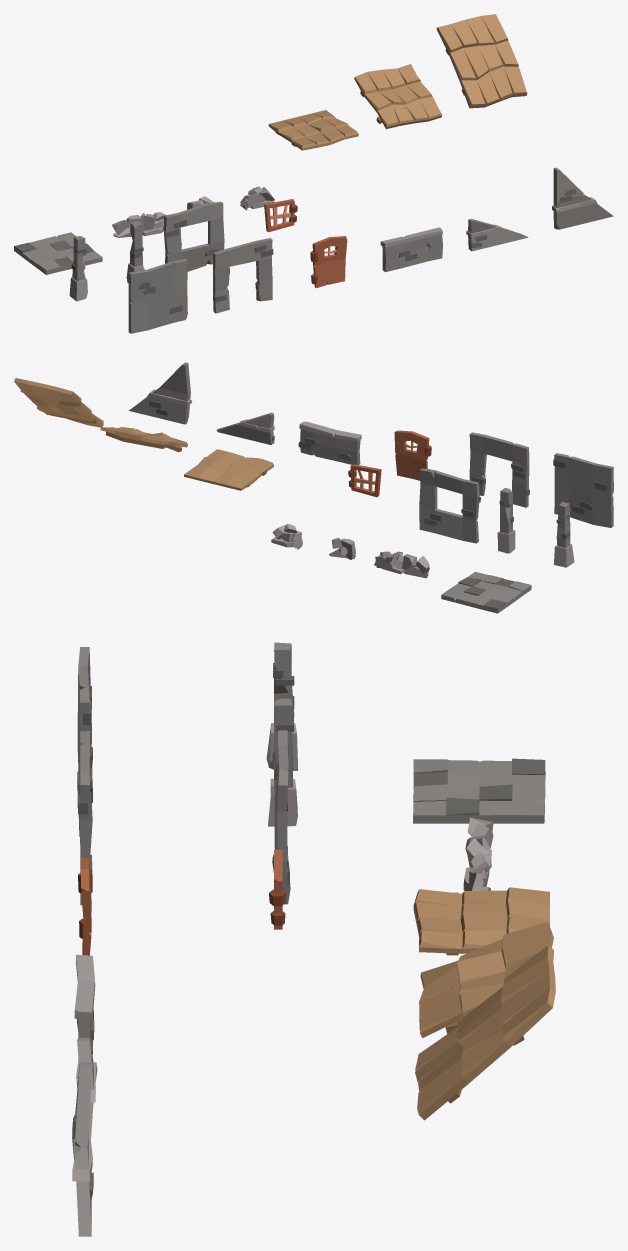
The model's file is lp-brick.glb.
3 renders of one model, top to bottom at view 1: azimuth 30°, elevation 25°; view 2: azimuth 150°, elevation 25°; view 3: azimuth 270°, elevation 25°, orthographic. The views are drawn at different scales.
Visible parts, largest first — view 1: Brick_Roof_3, Brick_Wall, Brick_Roof_2, Brick_Window_Wall, Brick_Door_Wall, Brick_Roof_1, Brick_Roof_3_Wall, Brick_Floor, Brick_Mid_Wall, Brick_Door, Brick_Roof_2_Wall, Brick_Pillar_1 (+4 smaller); view 2: Brick_Wall, Brick_Window_Wall, Brick_Door_Wall, Brick_Floor, Brick_Roof_1, Brick_Roof_3_Wall, Brick_Roof_3, Brick_Mid_Wall, Brick_Door, Brick_Roof_2, Brick_Roof_2_Wall, Brick_Fence (+5 smaller); view 3: Brick_Roof_3, Brick_Floor, Brick_Roof_1, Brick_Roof_2, Brick_Roof_3_Wall, Brick_Window_Wall, Brick_Pillar_2, Brick_Fence, Brick_Door_Wall, Brick_Pillar_1, Brick_Mid_Wall, Brick_Wall (+2 smaller).
Boxes of the visible parts, <box> form: Brick_Roof_3: <box>436,14,527,108</box>; Brick_Wall: <box>128,259,187,333</box>; Brick_Roof_2: <box>354,64,441,129</box>; Brick_Window_Wall: <box>163,201,224,271</box>; Brick_Door_Wall: <box>213,238,273,313</box>; Brick_Roof_1: <box>268,110,358,150</box>; Brick_Roof_3_Wall: <box>552,167,613,229</box>; Brick_Floor: <box>14,232,102,274</box>; Brick_Mid_Wall: <box>380,227,442,272</box>; Brick_Door: <box>310,236,347,288</box>; Brick_Roof_2_Wall: <box>466,218,528,251</box>; Brick_Pillar_1: <box>69,236,87,301</box>; Brick_Wall: <box>553,453,613,527</box>; Brick_Window_Wall: <box>419,468,480,543</box>; Brick_Door_Wall: <box>469,432,529,507</box>; Brick_Floor: <box>441,571,531,613</box>; Brick_Roof_1: <box>184,449,273,490</box>; Brick_Roof_3_Wall: <box>129,362,192,424</box>; Brick_Roof_3: <box>14,378,103,427</box>; Brick_Mid_Wall: <box>298,421,361,464</box>; Brick_Door: <box>394,430,431,480</box>; Brick_Roof_2: <box>100,427,187,452</box>; Brick_Roof_2_Wall: <box>216,412,274,444</box>; Brick_Fence: <box>374,551,429,578</box>; Brick_Roof_3: <box>415,945,555,1120</box>; Brick_Floor: <box>413,758,545,823</box>; Brick_Roof_1: <box>413,887,549,955</box>; Brick_Roof_2: <box>419,922,553,1038</box>; Brick_Roof_3_Wall: <box>72,1062,93,1236</box>; Brick_Window_Wall: <box>272,730,290,904</box>; Brick_Pillar_2: <box>268,698,297,826</box>; Brick_Fence: <box>463,817,493,890</box>; Brick_Door_Wall: <box>77,731,92,905</box>; Brick_Pillar_1: <box>266,642,298,770</box>; Brick_Mid_Wall: <box>74,954,95,1062</box>; Brick_Wall: <box>77,647,92,790</box>.
Bounding box in the file's own units: 17.28 × 4.04 × 7.38.
1 material, 1 textured.
